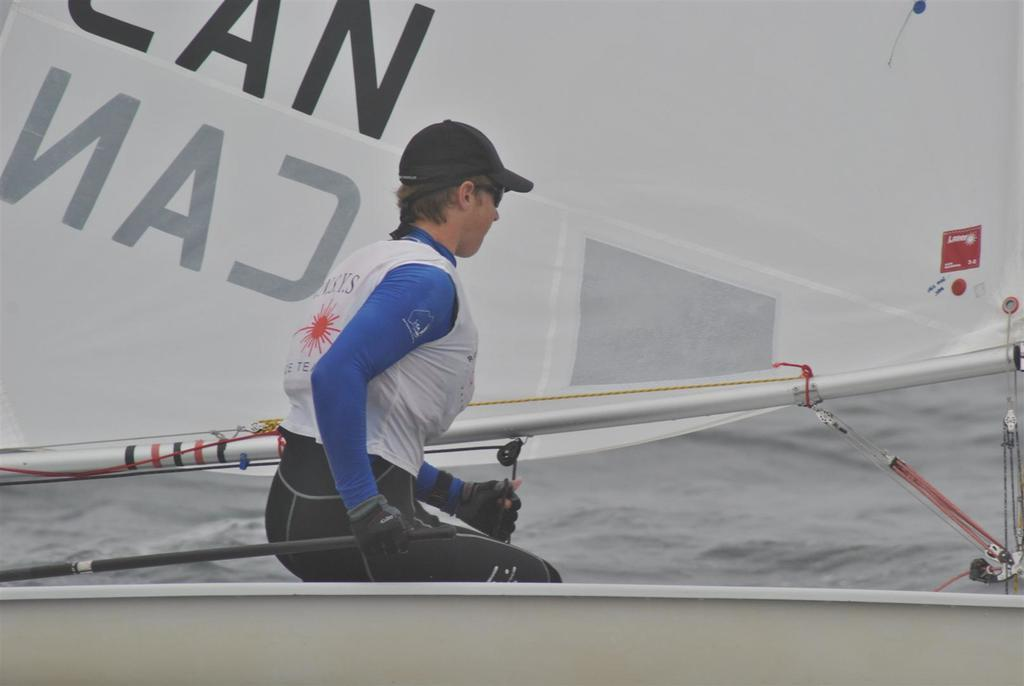Hat: (396, 116, 534, 195)
